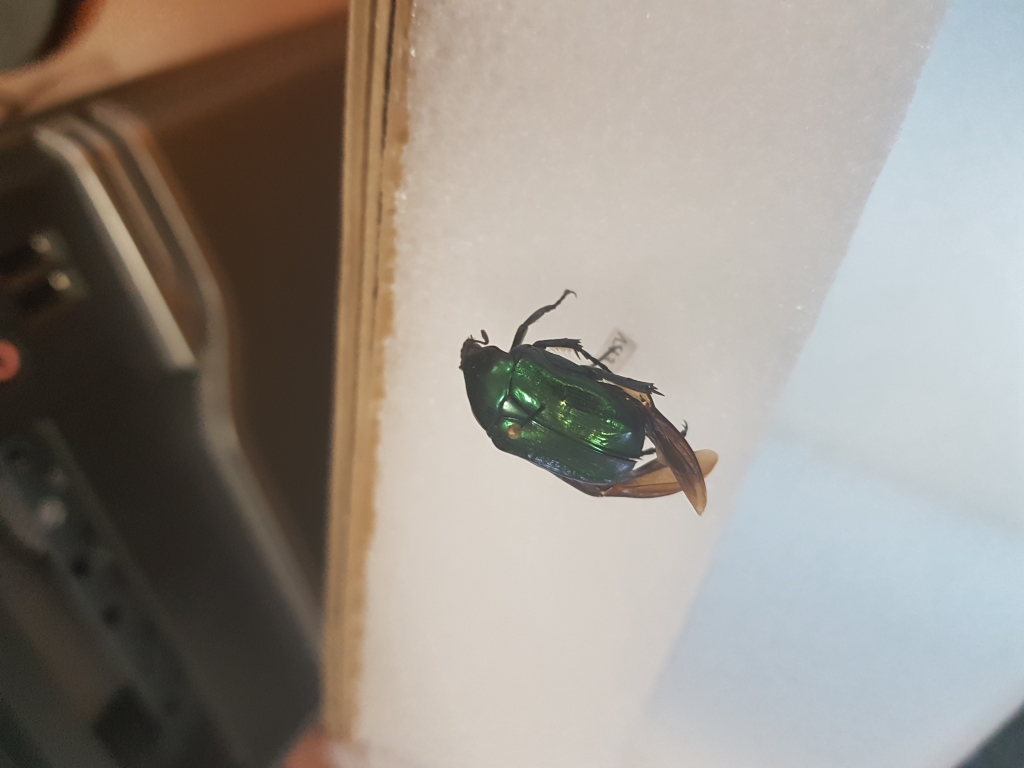Protaetia_angustata_angustata: (455, 285, 723, 526)
